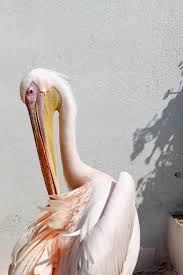pelican: (7, 68, 143, 274)
